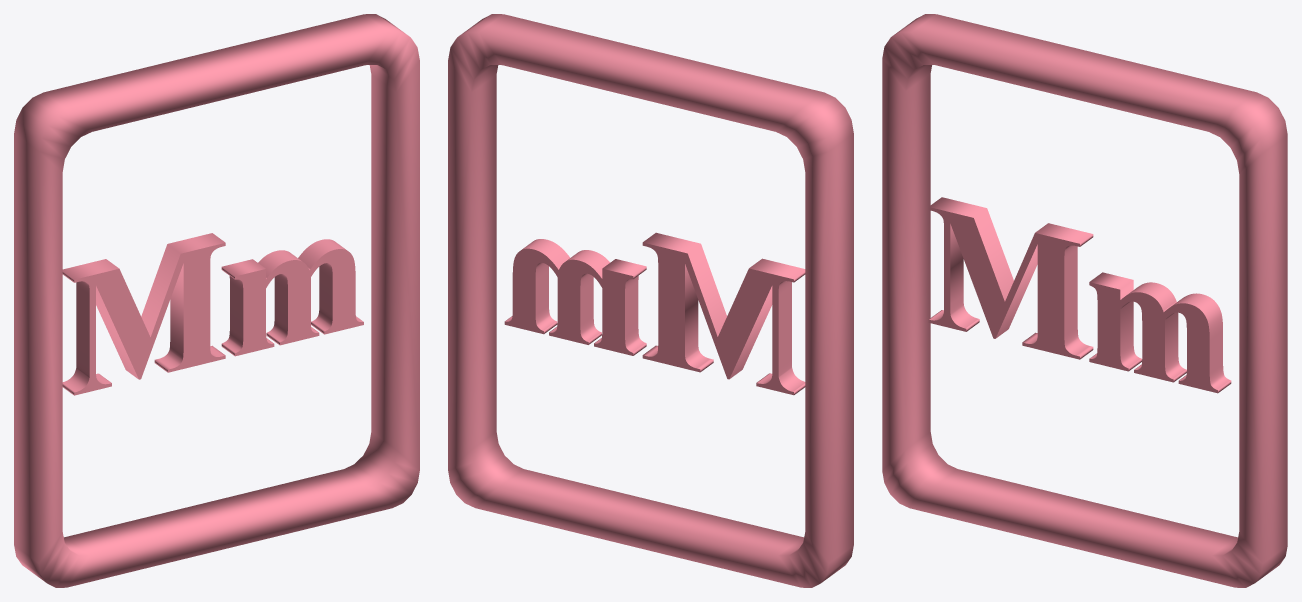
Rendered from Letter_M.gltf.
The picture shows the model from 3 angles, left to right: view 1: azimuth 30°, elevation 25°; view 2: azimuth 150°, elevation 25°; view 3: azimuth 330°, elevation 25°; orthographic projection.
Parts seen in each view (by area): view 1: Letters.014; view 2: Letters.014; view 3: Letters.014.
Part boxes in pixels (box(x1,y1,x2,y2)): Letters.014: box(14, 14, 419, 587); Letters.014: box(448, 14, 853, 587); Letters.014: box(882, 14, 1287, 587).
Size of the model in its own units: 1.25 by 1.49 by 0.1418.
